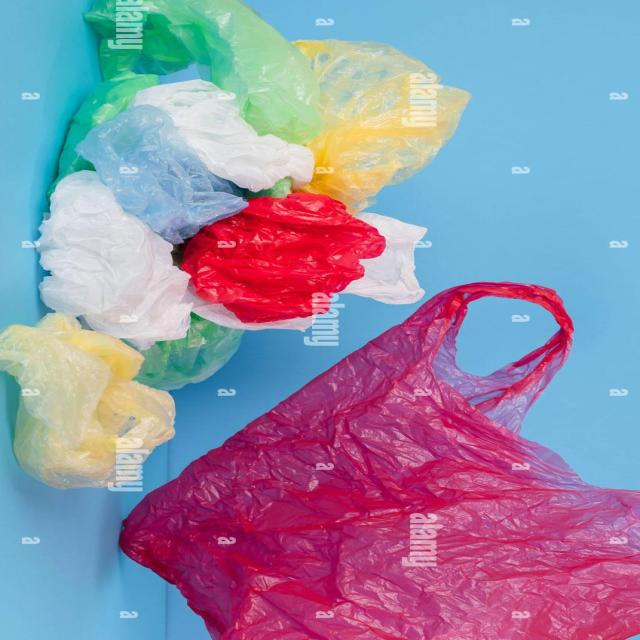Single-layer Plastic: (120, 282, 639, 640), (38, 170, 311, 350), (57, 0, 322, 181), (0, 314, 176, 491), (294, 39, 471, 212), (181, 192, 385, 322), (76, 105, 248, 244), (132, 80, 315, 191), (134, 312, 244, 391), (351, 214, 426, 303)
